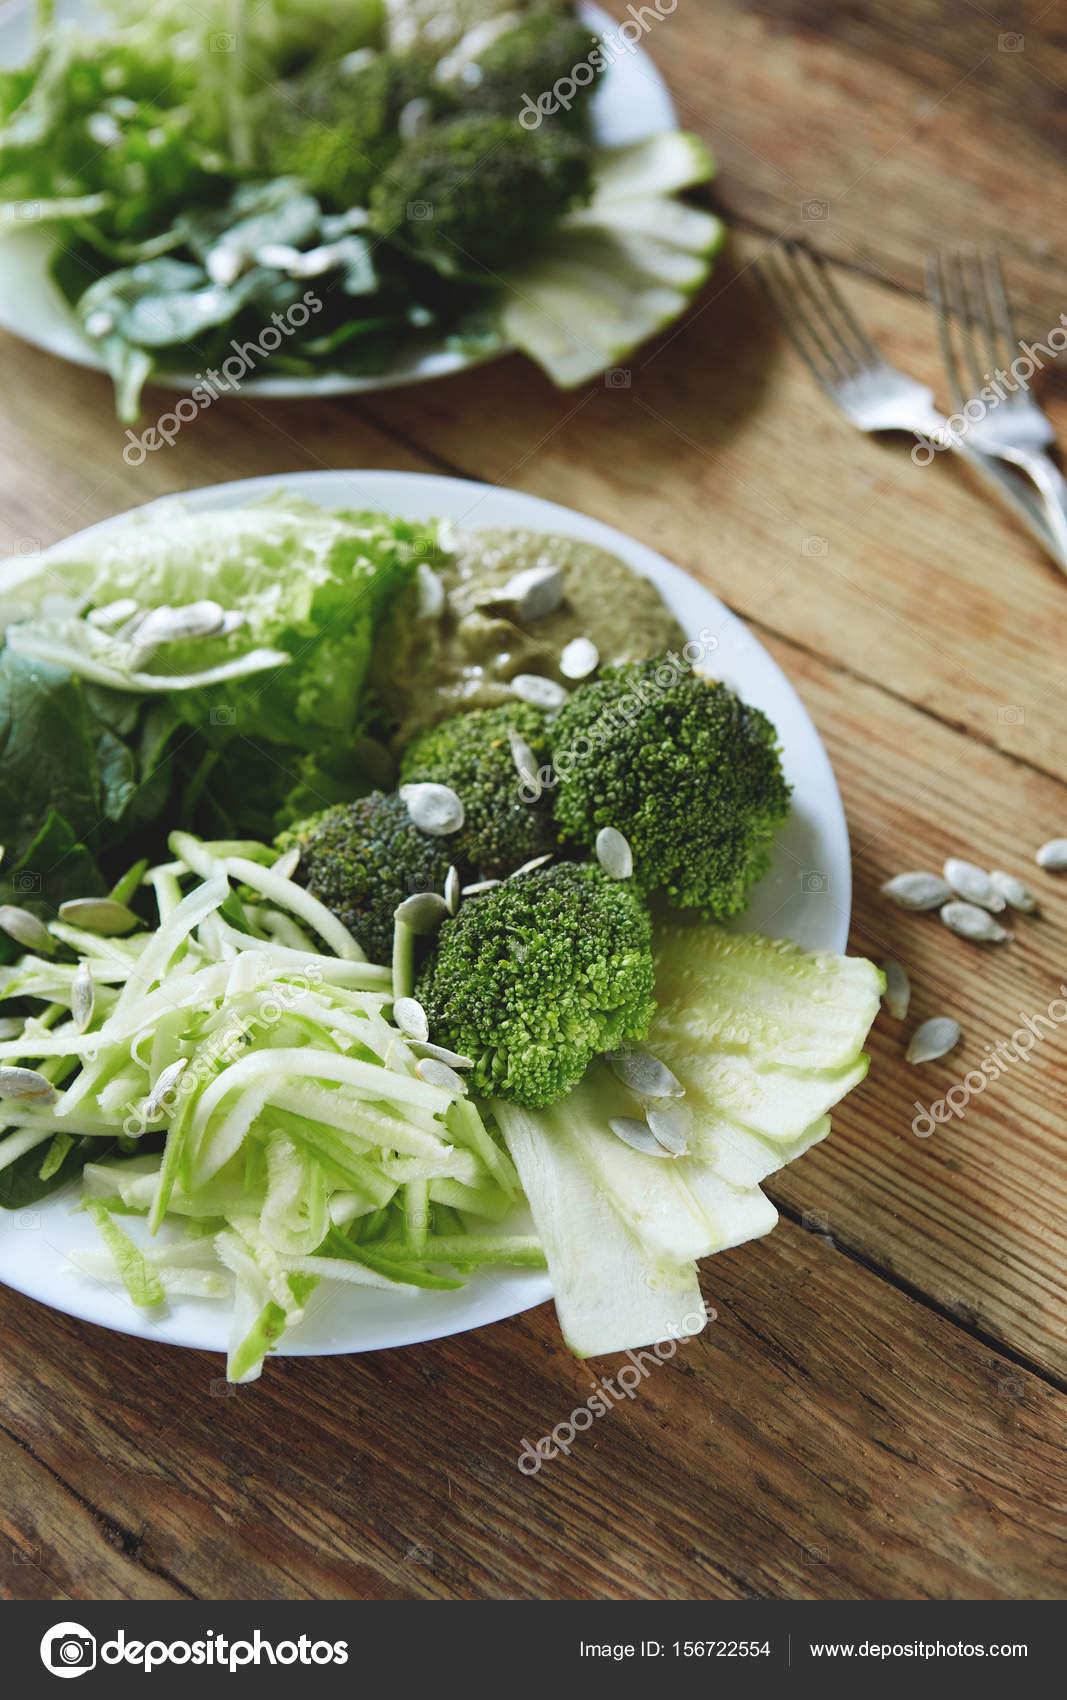chopped lettuce: (106, 583, 711, 1214)
